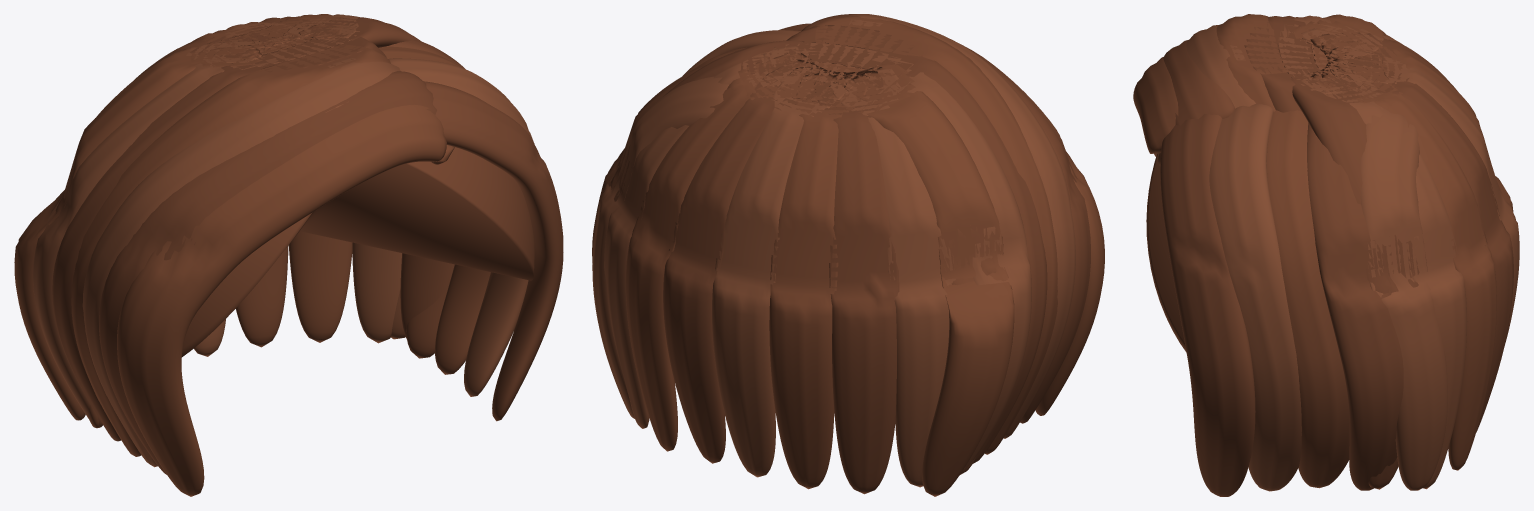
The model's file is Feminine-bob-bucket251-hair.glb.
3 renders of one model, left to right at view 1: azimuth 30°, elevation 25°; view 2: azimuth 150°, elevation 25°; view 3: azimuth 270°, elevation 25°, orthographic. The views are drawn at different scales.
Visible parts, largest first — view 1: 226 hair / Hair / sculpted 0.004, 226 hair / Hair / sculpted 1.007, 226 hair / Hair / sculpted 2.004, 226 hair / Hair / sculpted 1; view 2: 226 hair / Hair / sculpted 0.004, 226 hair / Hair / sculpted 2.004, 226 hair / Hair / sculpted 1.007; view 3: 226 hair / Hair / sculpted 1.007, 226 hair / Hair / sculpted 2.004, 226 hair / Hair / sculpted 0.004, 226 hair / Hair / sculpted 1.
Part boxes in pixels (x1=…): 226 hair / Hair / sculpted 0.004: x1=14, y1=14, x2=490, y2=496; 226 hair / Hair / sculpted 1.007: x1=52, y1=16, x2=563, y2=474; 226 hair / Hair / sculpted 2.004: x1=33, y1=14, x2=534, y2=467; 226 hair / Hair / sculpted 1: x1=181, y1=147, x2=534, y2=357; 226 hair / Hair / sculpted 0.004: x1=625, y1=16, x2=1104, y2=496; 226 hair / Hair / sculpted 2.004: x1=592, y1=14, x2=1075, y2=487; 226 hair / Hair / sculpted 1.007: x1=592, y1=14, x2=1090, y2=494; 226 hair / Hair / sculpted 1.007: x1=1160, y1=16, x2=1513, y2=496; 226 hair / Hair / sculpted 2.004: x1=1184, y1=15, x2=1519, y2=491; 226 hair / Hair / sculpted 0.004: x1=1133, y1=14, x2=1513, y2=488; 226 hair / Hair / sculpted 1: x1=1146, y1=153, x2=1186, y2=352.
Bounding box in the file's own units: 1.02 × 0.8387 × 0.7806.
